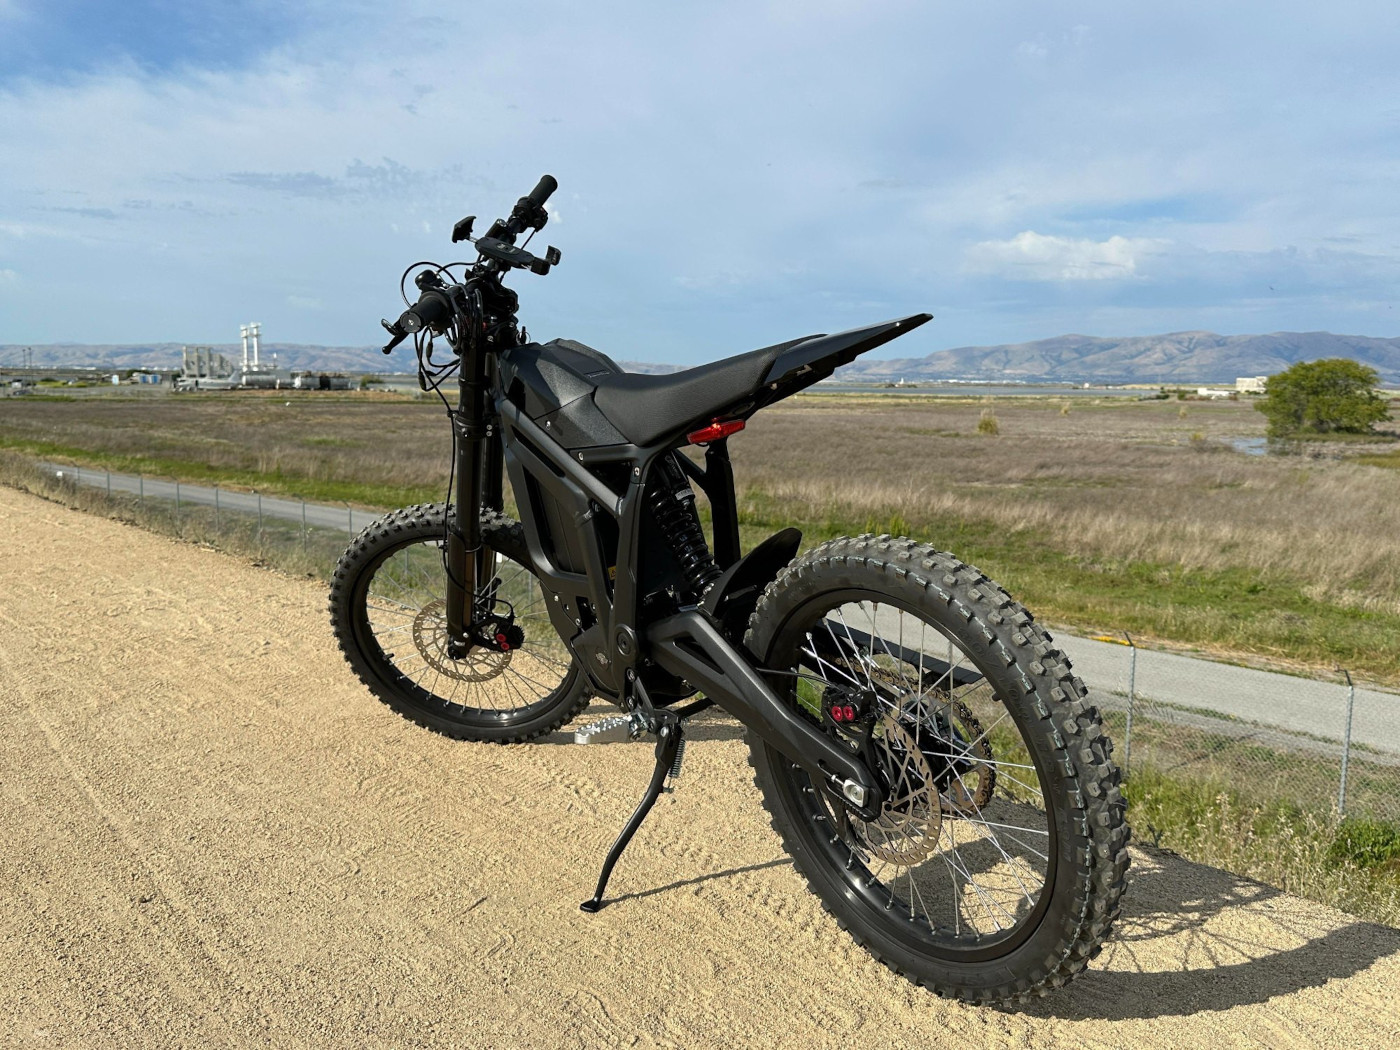bike: (325, 171, 1137, 1014)
